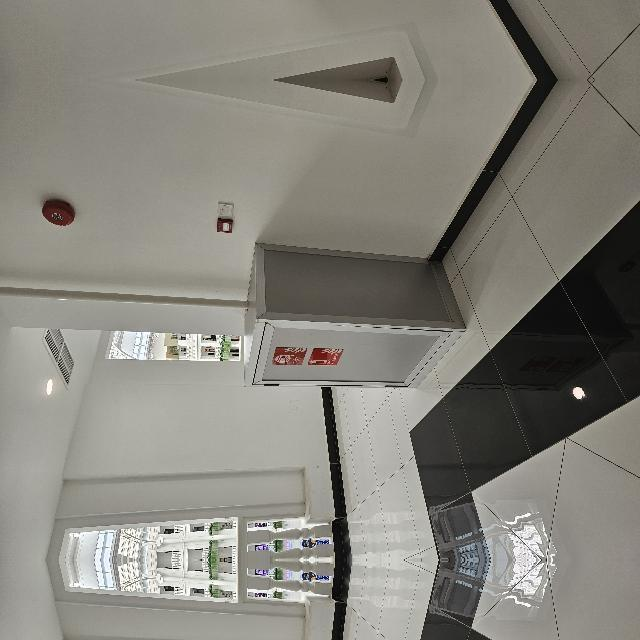obstacle: (170, 322, 318, 546), (170, 574, 317, 640)
